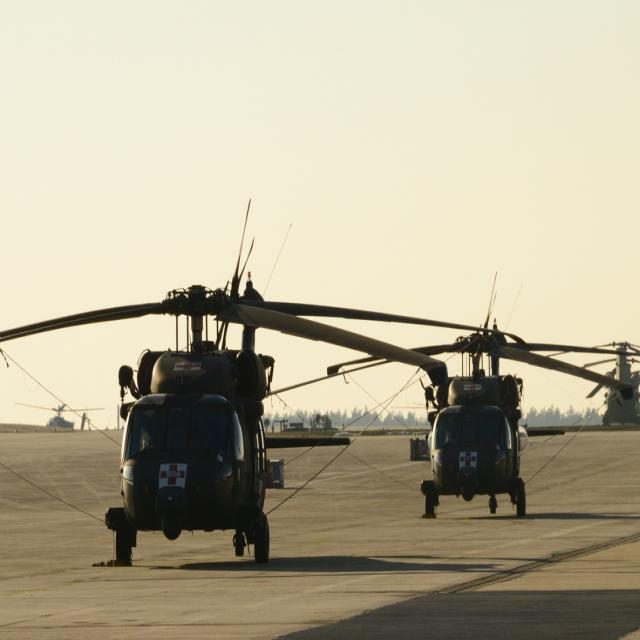helicopter: (1, 288, 311, 557), (290, 295, 596, 525), (588, 335, 640, 428)
